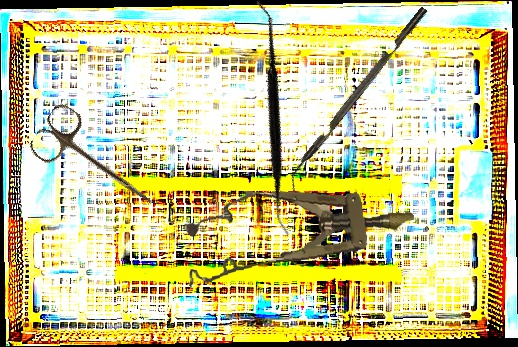Chopper: (280, 6, 436, 193)
Iris Scissors: (25, 100, 171, 225)
Spatula Surgical: (164, 0, 381, 236)
Speculum: (178, 171, 420, 290)
